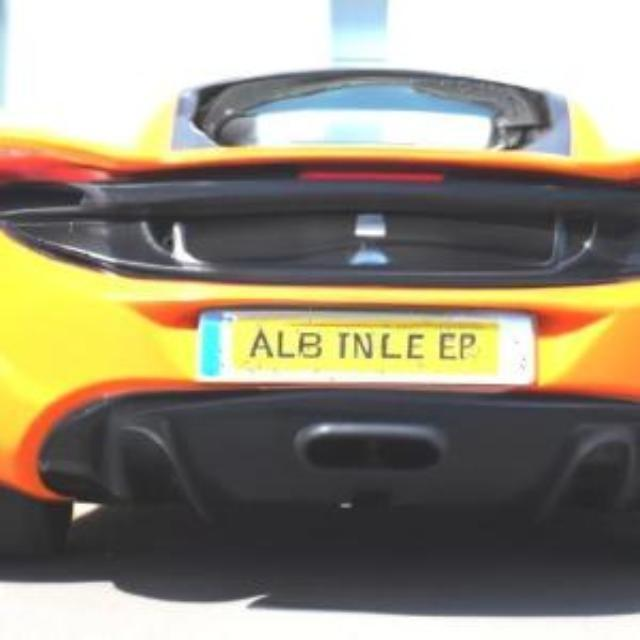License Plate: (197, 308, 536, 385)
